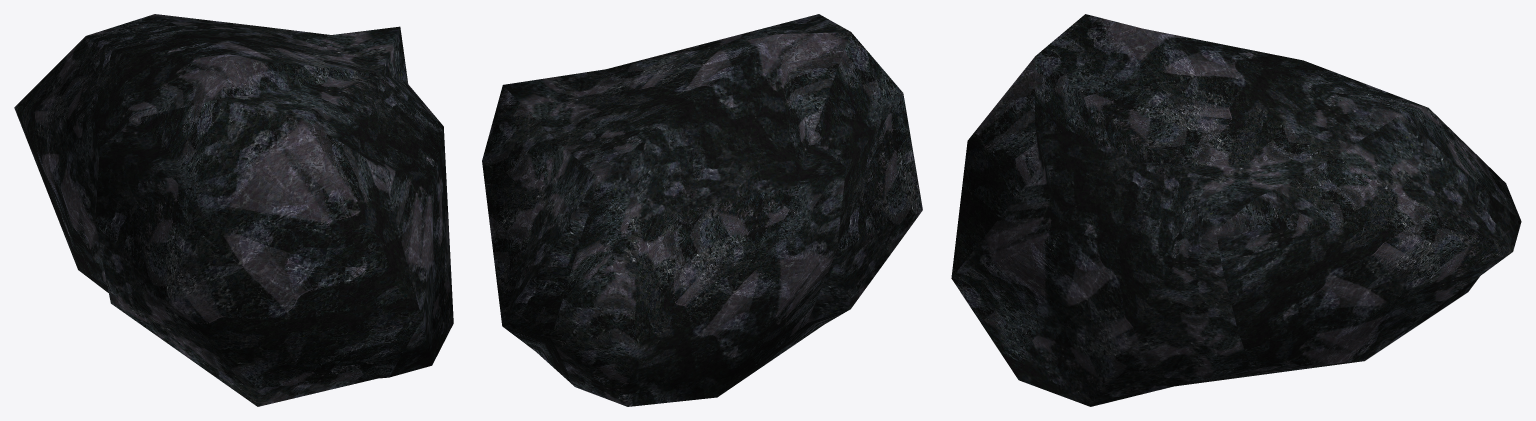
File: asteroid_obsidian_radial_s02_l1.fbx
3 renders of one model, left to right at view 1: azimuth 30°, elevation 25°; view 2: azimuth 150°, elevation 25°; view 3: azimuth 270°, elevation 25°, orthographic. The views are drawn at different scales.
Visible parts, largest first — view 1: mesh_node; view 2: mesh_node; view 3: mesh_node.
Boxes of the visible parts, x1,y1,x2,y2 form: mesh_node: [14, 14, 453, 406]; mesh_node: [482, 14, 922, 406]; mesh_node: [951, 14, 1521, 406].
Size of the model in its own units: 4.38 by 4.08 by 6.61.
